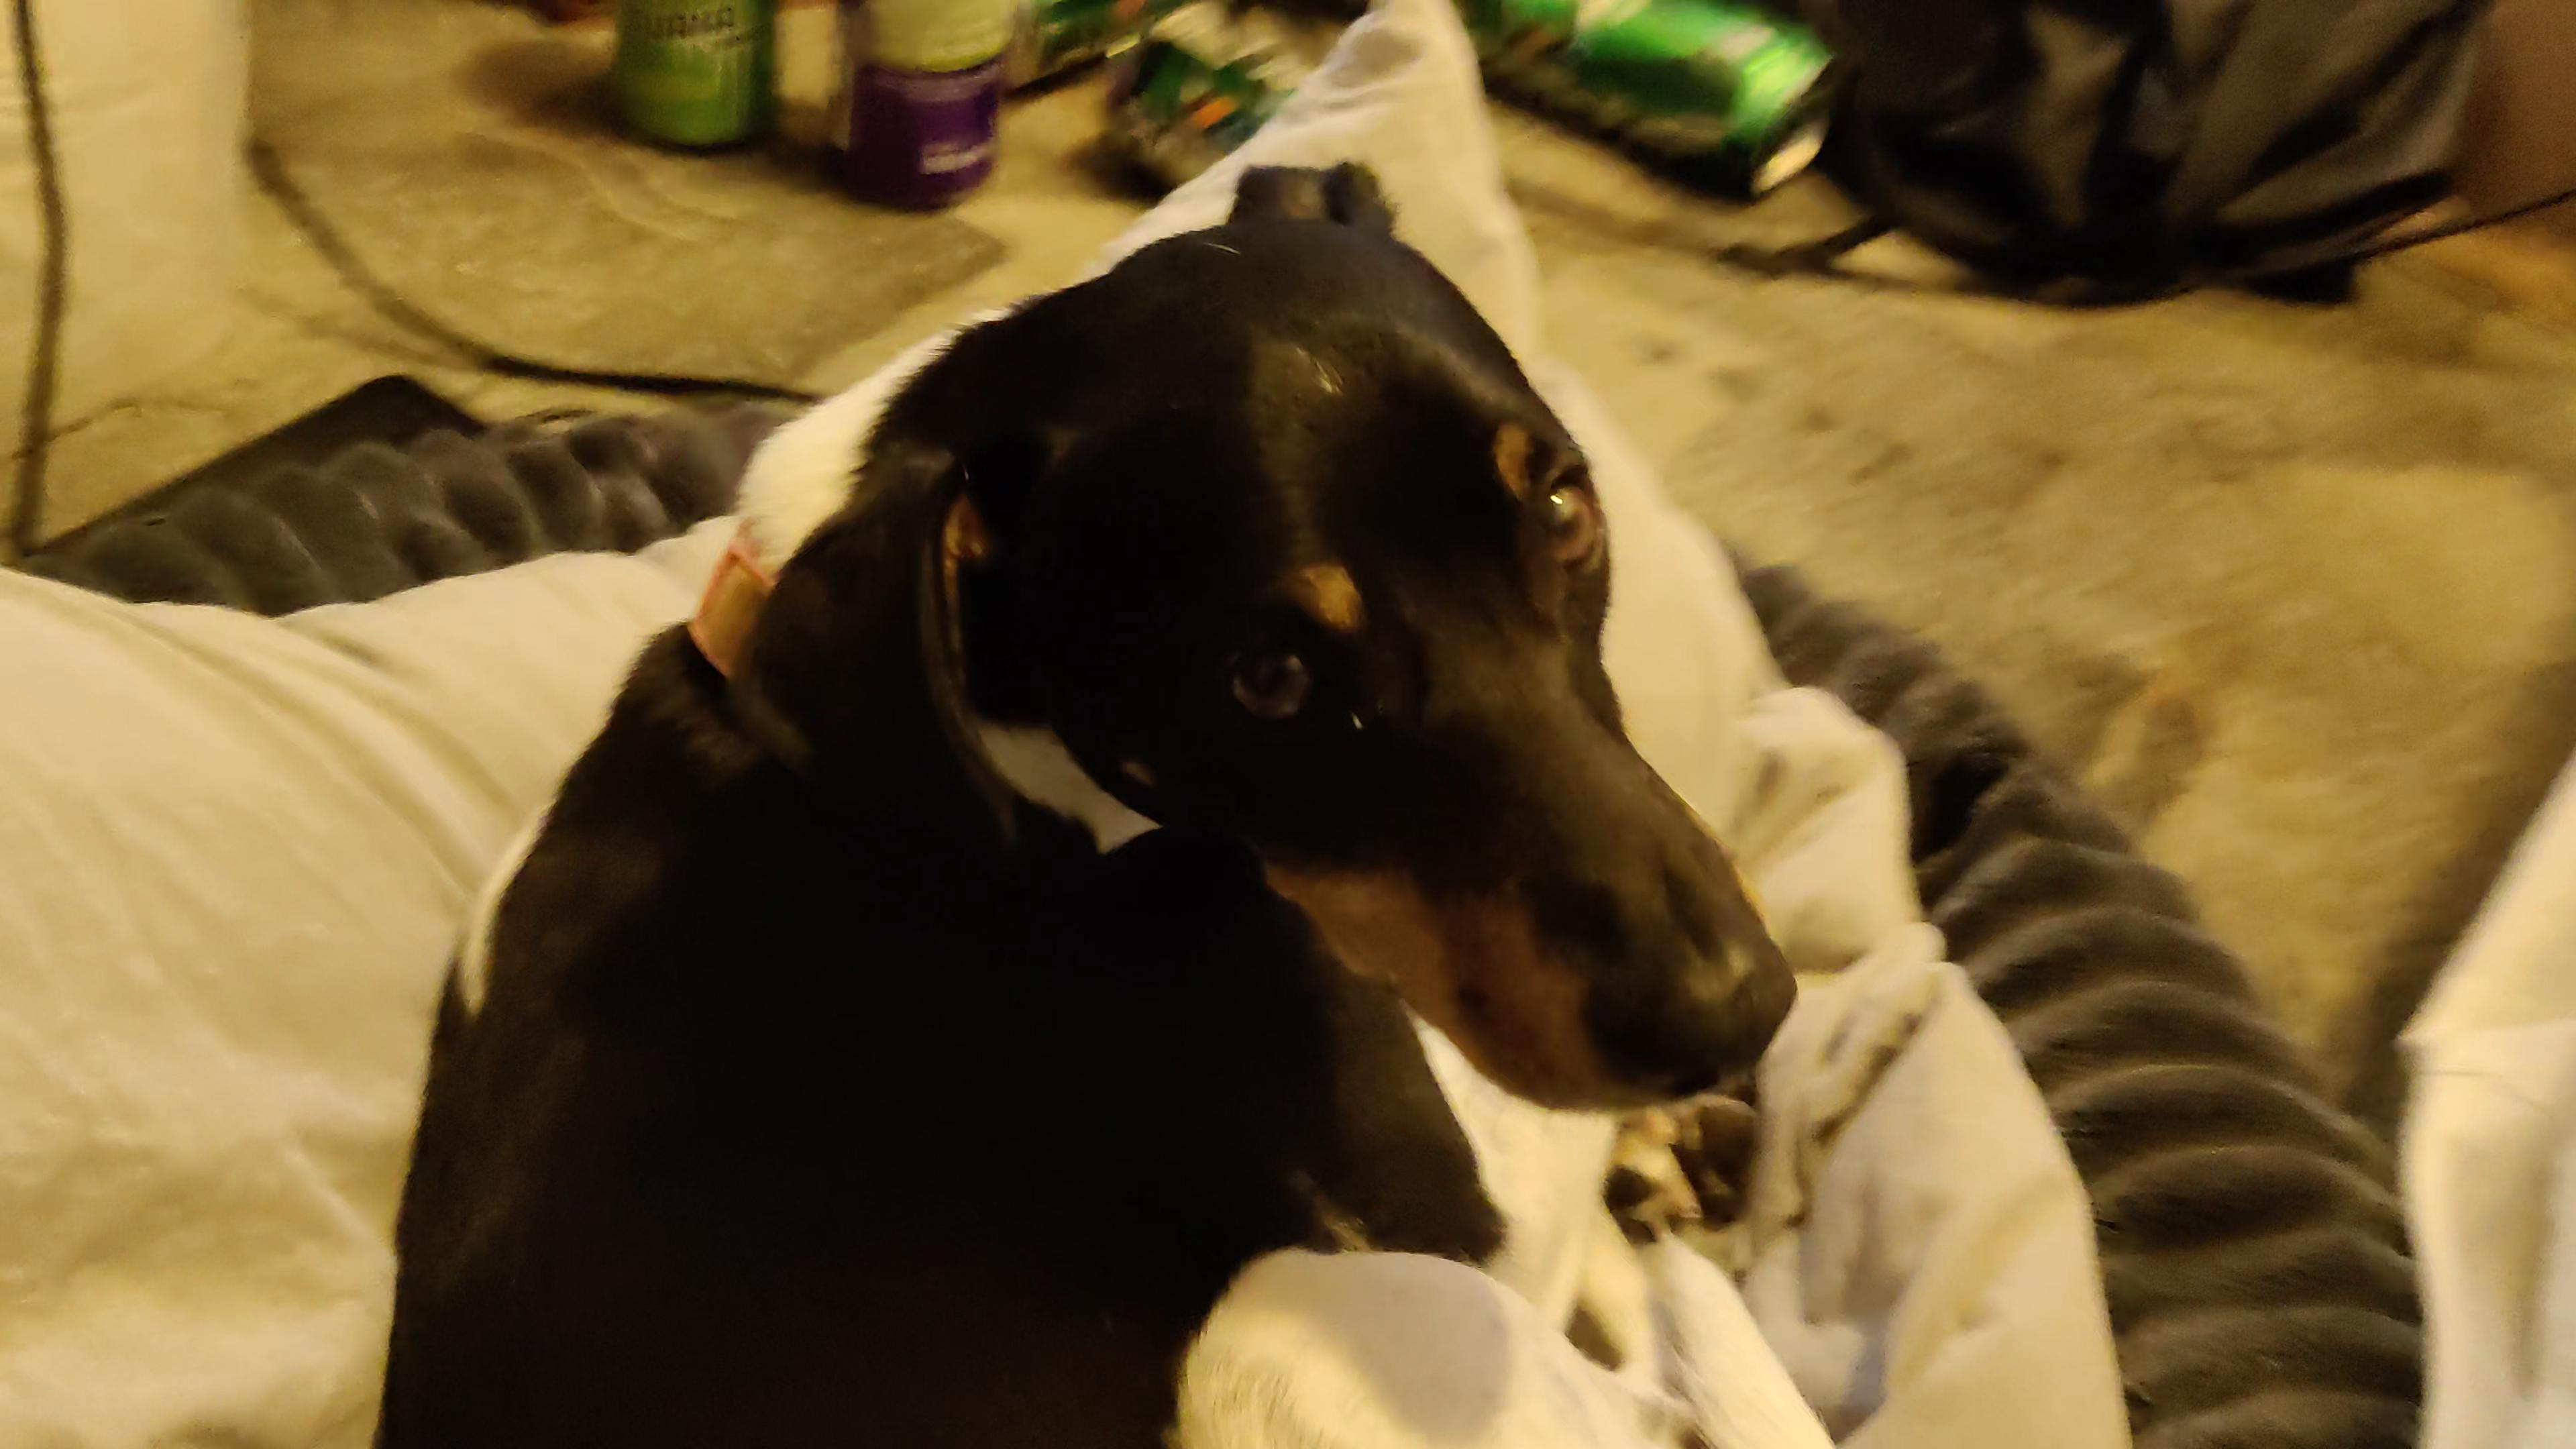Dog: (347, 142, 1865, 1449)
